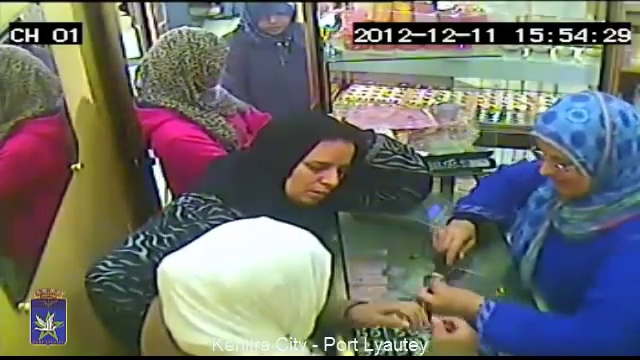face: (287, 151, 348, 203), (536, 137, 583, 194), (253, 7, 293, 33)
